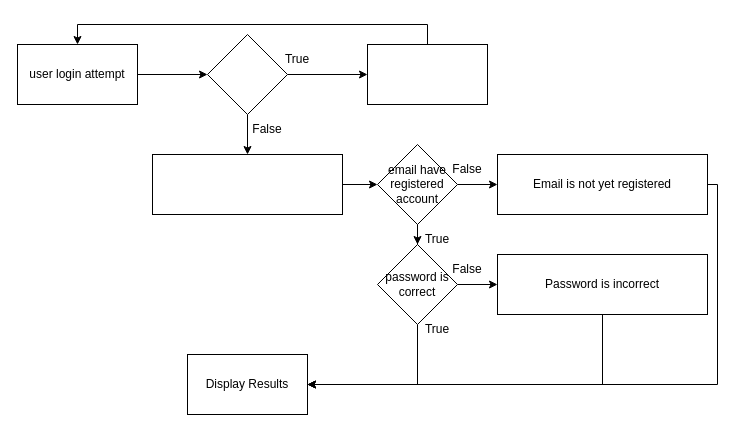
The diagram is 743 pixels wide and 432 high, and some of its shapes have lost their labels. The shapes that lost their labels are listed below. From the top down, each one's box as (x1, y1, x2, y2) in pixels, then its label:
(206, 34, 288, 114): if empty fields
(366, 44, 488, 104): Email and password are required
(152, 154, 342, 214): loginHandler(userFormData)
